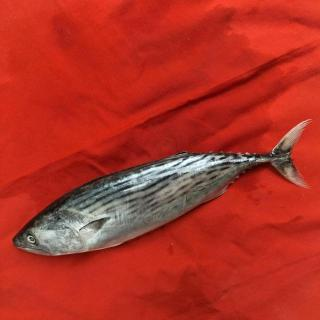Ikan: (11, 122, 310, 266)
